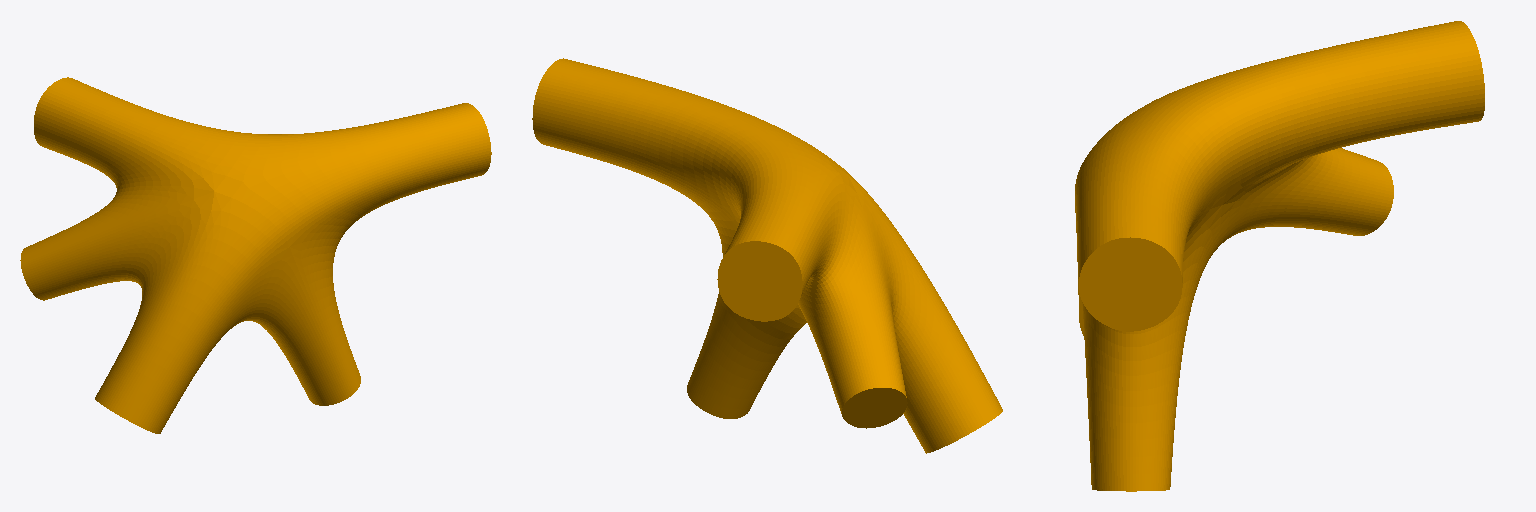
The robot description file, URDF, robot "object":
<robot name="object">
  <link name="object">
    <visual>
      <origin xyz="0 0 0"/>
      <geometry>
        <mesh filename="visual.obj" scale="1 1 1"/>
      </geometry>
    </visual>
    <collision>
      <origin xyz="0 0 0"/>
      <geometry>
        <mesh filename="collision.obj" scale="1 1 1"/>
      </geometry>
    </collision>
    <inertial>
      <mass value="0.05"/>
      <inertia ixx="8.946956572761445e-05" iyy="0.00013777551334160645" izz="0.00013527193110001766" ixy="2.824365388493756e-05" ixz="-2.083732929406601e-05" iyz="-1.4855892630297293e-05"/>
    </inertial>
  </link>
</robot>

--- Facts derived from the render (not from the file) ---
The picture shows the robot from 3 angles, left to right: view 1: azimuth 30°, elevation 25°; view 2: azimuth 150°, elevation 25°; view 3: azimuth 270°, elevation 25°; orthographic projection.
Model object with 1 links and 0 joints (none), rooted at object, posed every joint at zero.
Links seen in each view (by area): view 1: object; view 2: object; view 3: object.
Link boxes in pixels (left/top/right/bottom): object: left=20, top=77, right=491, bottom=433; object: left=532, top=58, right=1002, bottom=453; object: left=1075, top=21, right=1484, bottom=491.
Bounding box of the posed robot: 0.1982 × 0.1357 × 0.1356 m (x, y, z).
Meshes: 1 distinct files referenced, 1 mesh visuals loaded (1 OBJ).
